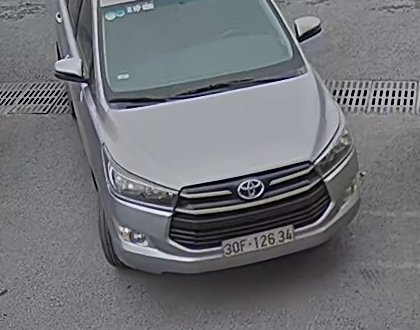vehicle plate: (221, 222, 297, 258)
